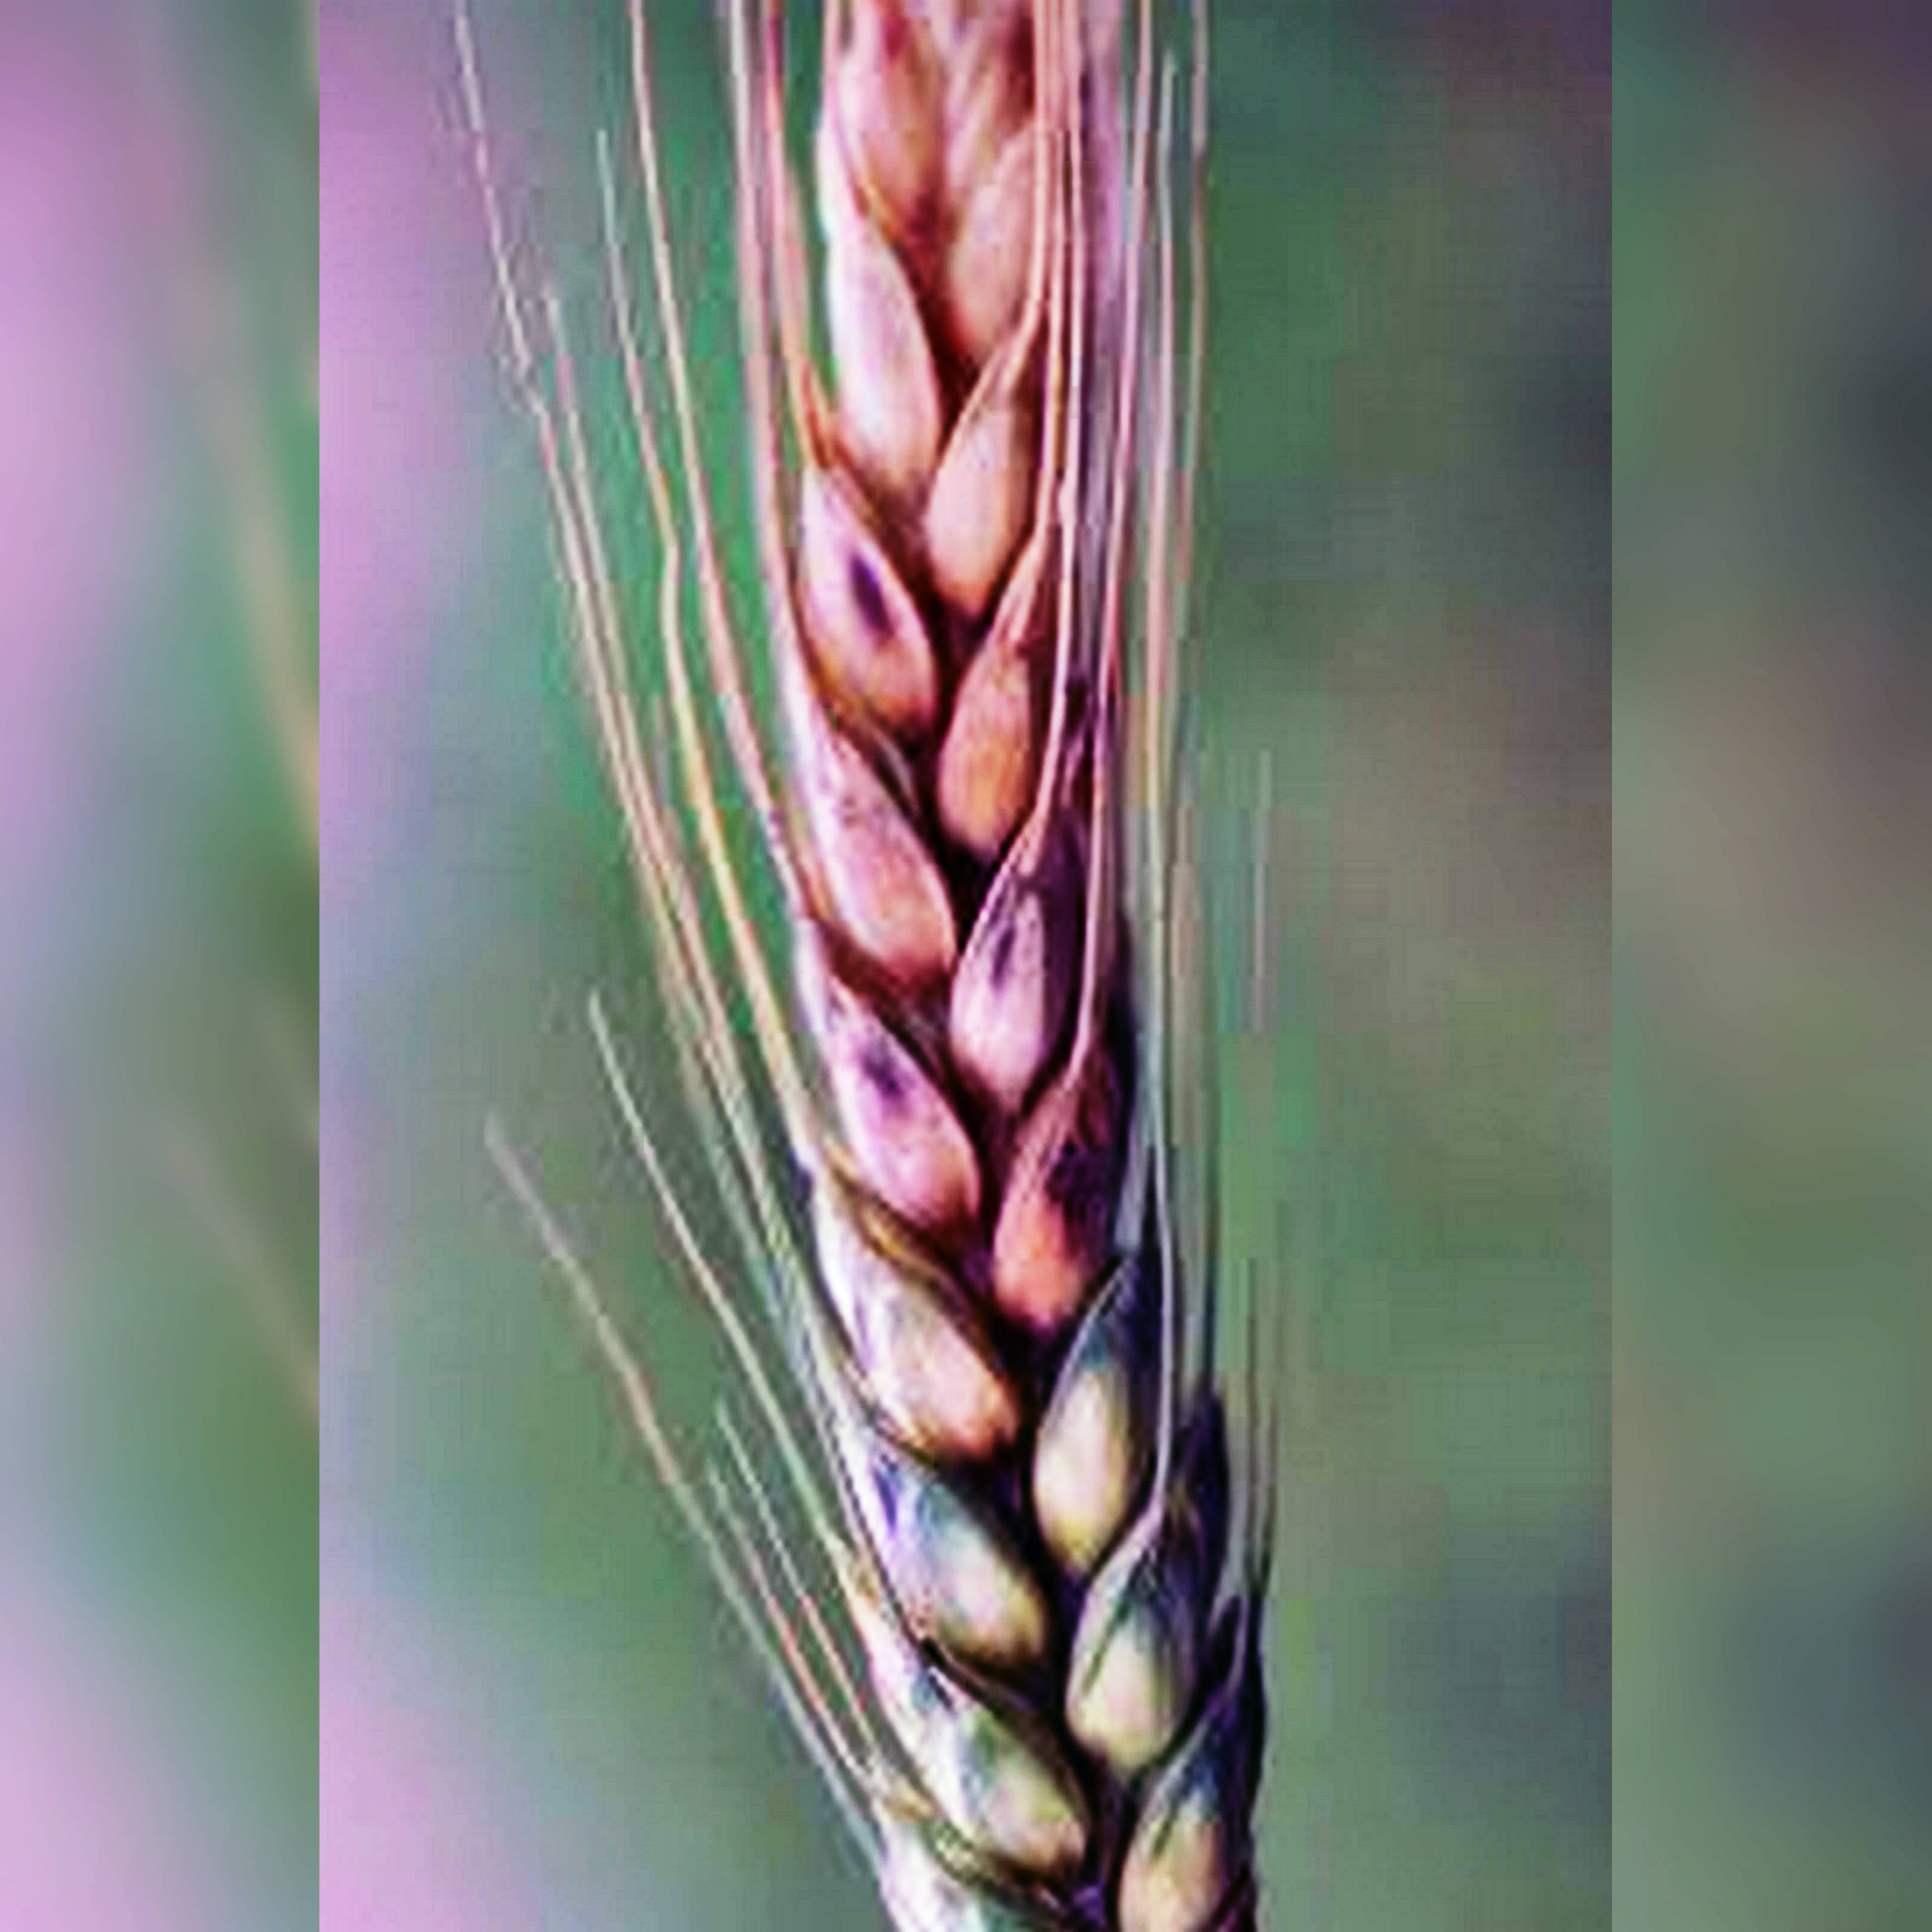Wheat scab: (715, 69, 1269, 1923)
